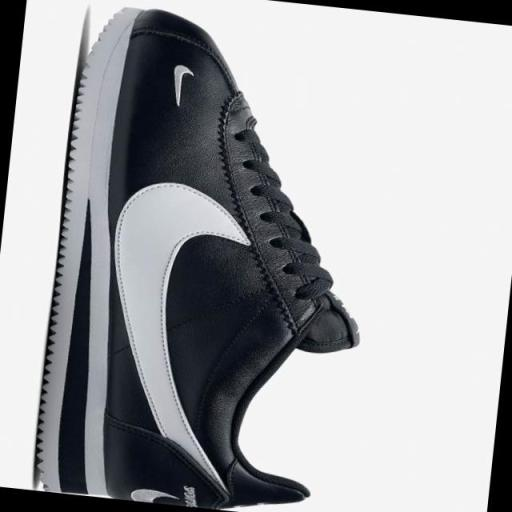Nike: (87, 177, 250, 488)
